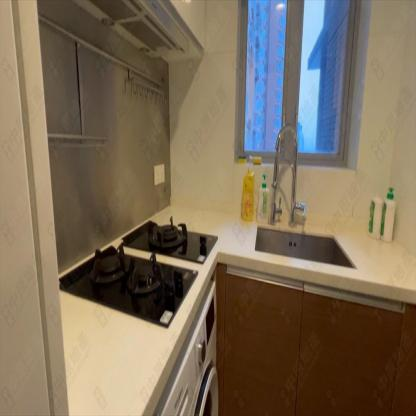Cupboard: (221, 262, 416, 413)
Exhaust Hood: (75, 0, 188, 57)
Faucet: (272, 117, 307, 219)
Sink: (254, 226, 355, 268)
Stove: (57, 215, 219, 329)
Washing Machine: (152, 277, 221, 415)
